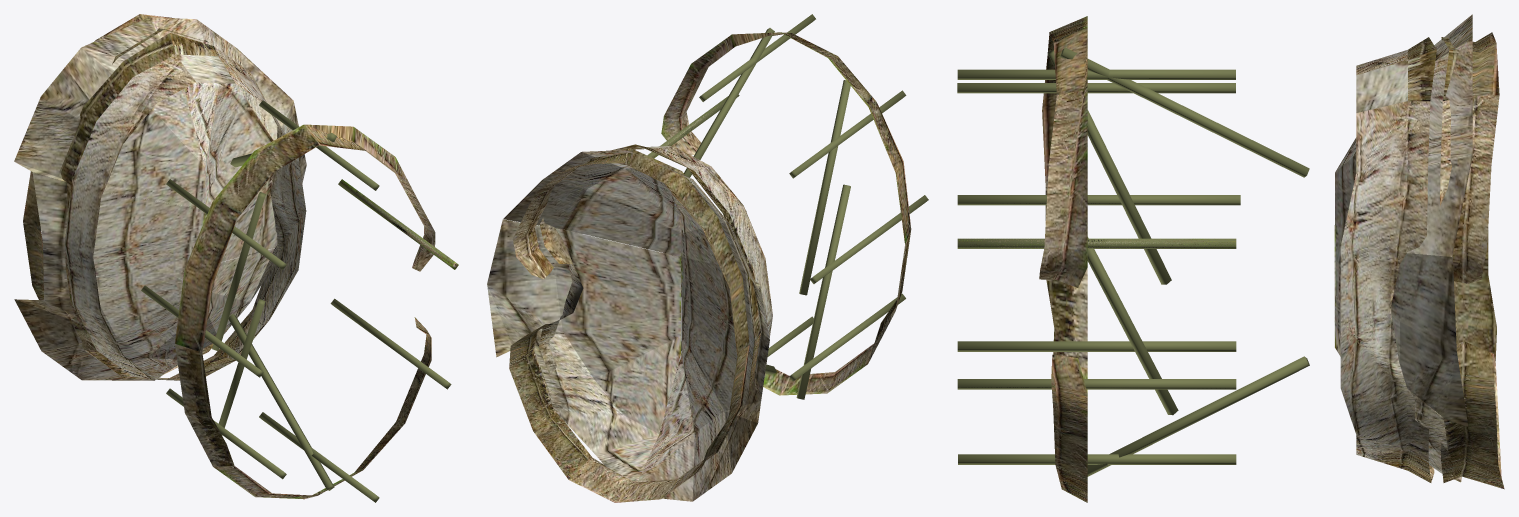
The model's file is hut_000006.obj.
3 views of the same model, side by side, from view 1: azimuth 30°, elevation 25°; view 2: azimuth 150°, elevation 25°; view 3: azimuth 270°, elevation 25° (orthographic). The views are drawn at different scales.
Visible parts, largest first — view 1: Sphere.003, Sphere.002, Sphere.004, Sphere.007, Sphere.008, Sphere.006, Sphere, Sphere.001, Sphere.005, Cylinder.007, Cylinder.013_Cylinder.014, Cylinder.012_Cylinder.013 (+10 smaller); view 2: Sphere, Sphere.001, Sphere.005, Sphere.008, Sphere.006, Sphere.002, Sphere.003, Sphere.007, Sphere.004, Cylinder.013_Cylinder.014, Cylinder.012_Cylinder.013, Cylinder.009 (+6 smaller); view 3: Sphere.003, Sphere.002, Sphere.001, Sphere.005, Sphere.006, Cylinder.006, Cylinder.009, Cylinder.011_Cylinder.012, Cylinder, Cylinder.001, Cylinder.004, Cylinder.007 (+8 smaller).
Part boxes in pixels (bbox=[...]): Sphere.003: bbox=[60, 33, 306, 380]; Sphere.002: bbox=[175, 124, 435, 499]; Sphere.004: bbox=[14, 17, 205, 208]; Sphere.007: bbox=[32, 172, 205, 300]; Sphere.008: bbox=[14, 272, 184, 380]; Sphere.006: bbox=[149, 17, 293, 206]; Sphere: bbox=[159, 247, 277, 377]; Sphere.001: bbox=[23, 14, 258, 375]; Sphere.005: bbox=[205, 101, 306, 261]; Cylinder.007: bbox=[228, 314, 334, 490]; Cylinder.013_Cylinder.014: bbox=[212, 192, 265, 351]; Cylinder.012_Cylinder.013: bbox=[218, 299, 265, 435]; Sphere: bbox=[534, 312, 680, 482]; Sphere.001: bbox=[509, 148, 749, 502]; Sphere.005: bbox=[487, 219, 680, 357]; Sphere.008: bbox=[637, 313, 760, 501]; Sphere.006: bbox=[503, 150, 681, 256]; Sphere.002: bbox=[661, 32, 911, 395]; Sphere.003: bbox=[539, 144, 772, 468]; Sphere.007: bbox=[681, 257, 769, 400]; Sphere.004: bbox=[630, 151, 759, 289]; Cylinder.013_Cylinder.014: bbox=[799, 80, 850, 295]; Cylinder.012_Cylinder.013: bbox=[796, 184, 850, 399]; Cylinder.009: bbox=[683, 28, 774, 177]; Sphere.003: bbox=[1340, 37, 1436, 482]; Sphere.002: bbox=[1039, 16, 1087, 502]; Sphere.001: bbox=[1440, 32, 1504, 489]; Sphere.005: bbox=[1335, 225, 1468, 426]; Sphere.006: bbox=[1335, 38, 1472, 256]; Cylinder.006: bbox=[957, 341, 1236, 351]; Cylinder.009: bbox=[1060, 47, 1309, 177]; Cylinder.011_Cylinder.012: bbox=[957, 379, 1236, 389]; Cylinder: bbox=[958, 454, 1236, 464]; Cylinder.001: bbox=[957, 69, 1235, 79]; Cylinder.004: bbox=[957, 238, 1236, 248]; Cylinder.007: bbox=[1087, 356, 1309, 476].
Size of the model in its own units: 3.9 by 4.88 by 5.24.
